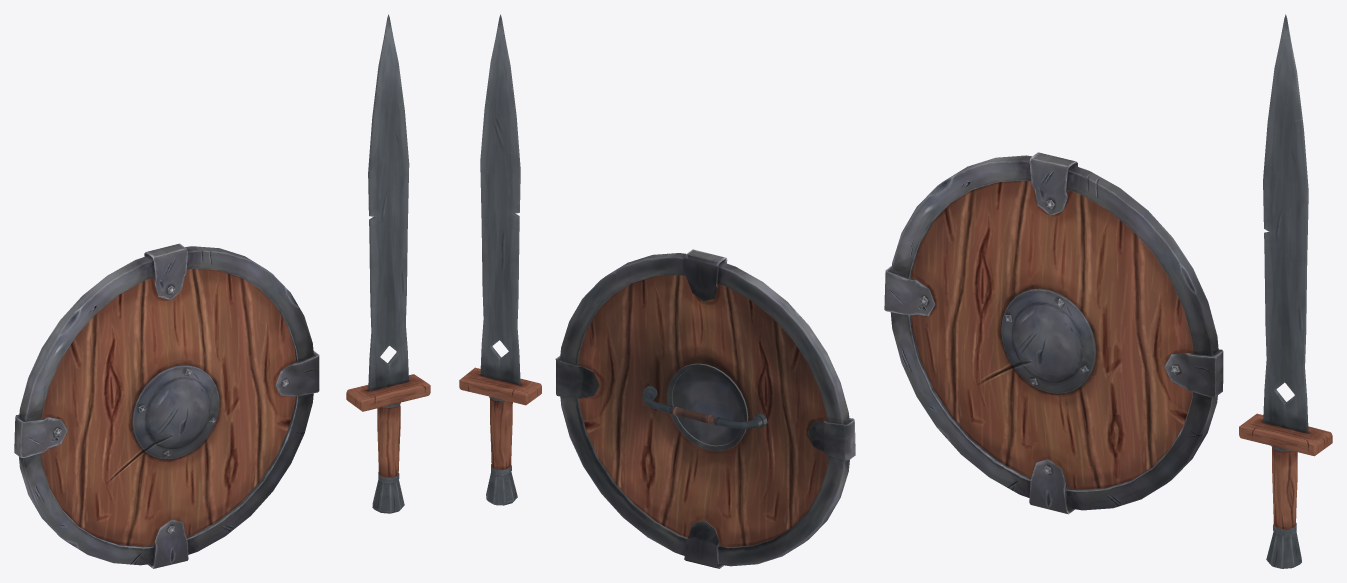
The model's file is sword_and_shield.glb.
3 views of the same model, side by side, from view 1: azimuth 30°, elevation 25°; view 2: azimuth 150°, elevation 25°; view 3: azimuth 330°, elevation 25° (orthographic). The views are drawn at different scales.
Parts seen in each view (by area): view 1: Shield_1, sword_0; view 2: Shield_1, sword_0; view 3: Shield_1, sword_0.
Boxes of the visible parts, x1,y1,x2,y2 form: Shield_1: [14, 243, 319, 568]; sword_0: [346, 14, 430, 513]; Shield_1: [555, 249, 855, 568]; sword_0: [459, 14, 541, 505]; Shield_1: [884, 152, 1223, 514]; sword_0: [1239, 14, 1332, 568].
Size of the model in its own units: 3.77 by 4.51 by 0.4451.
Materials: 2 (2 with a texture image).
